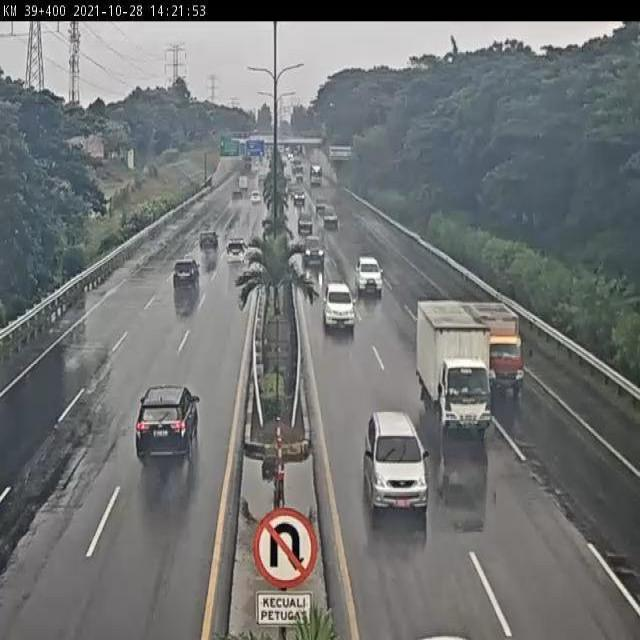car: (364, 411, 430, 509), (133, 385, 201, 464), (324, 284, 357, 329), (356, 255, 383, 296), (171, 256, 199, 291), (224, 236, 249, 268), (303, 235, 326, 264), (197, 231, 219, 256)
truck-m-: (417, 302, 493, 434)
truck-s-: (474, 303, 527, 392)
